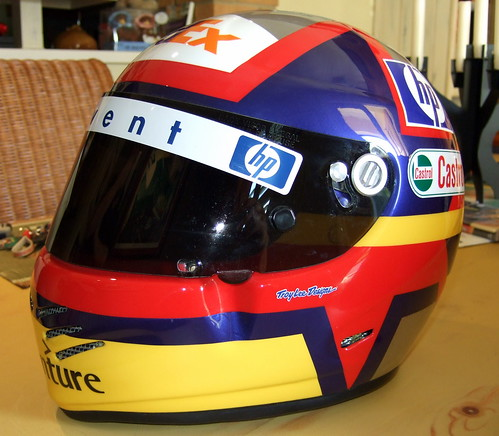helmet: (27, 13, 474, 424)
